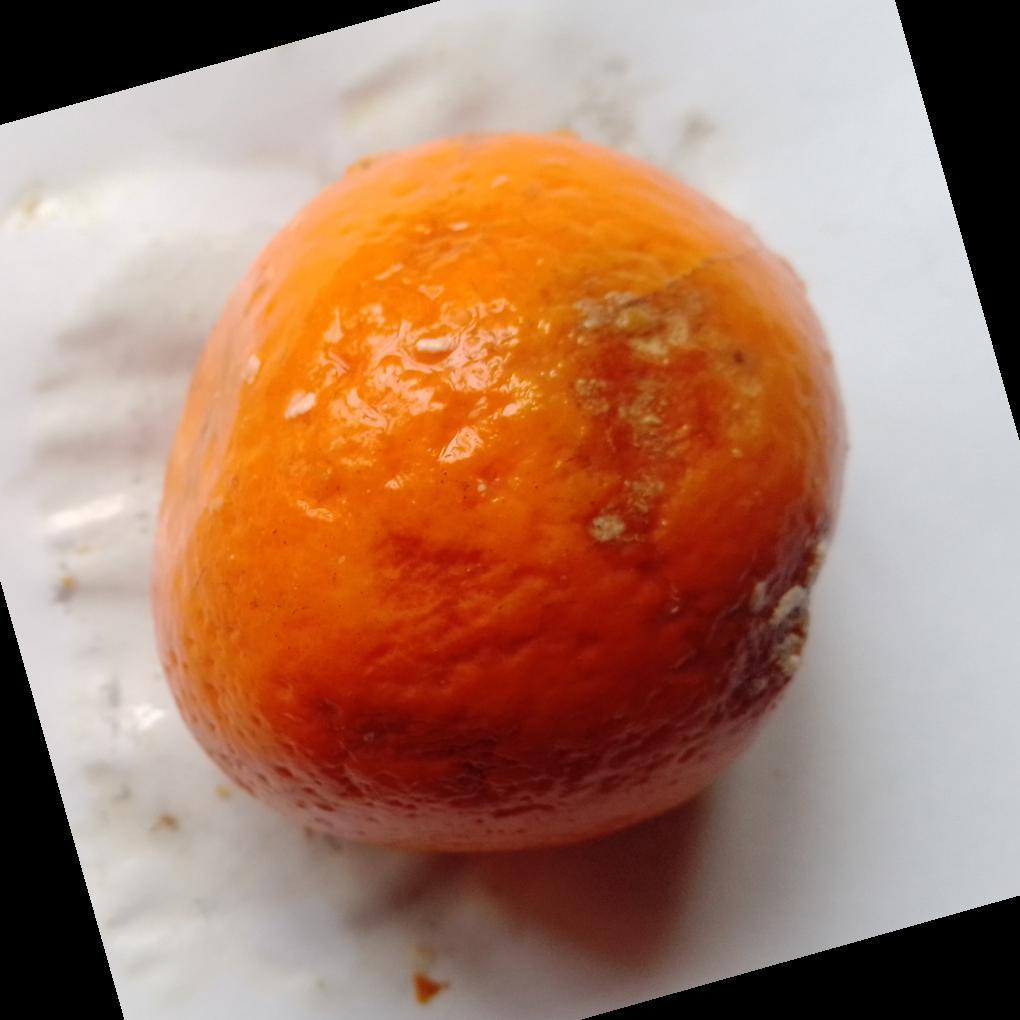FreshOrange: (147, 133, 850, 860)
